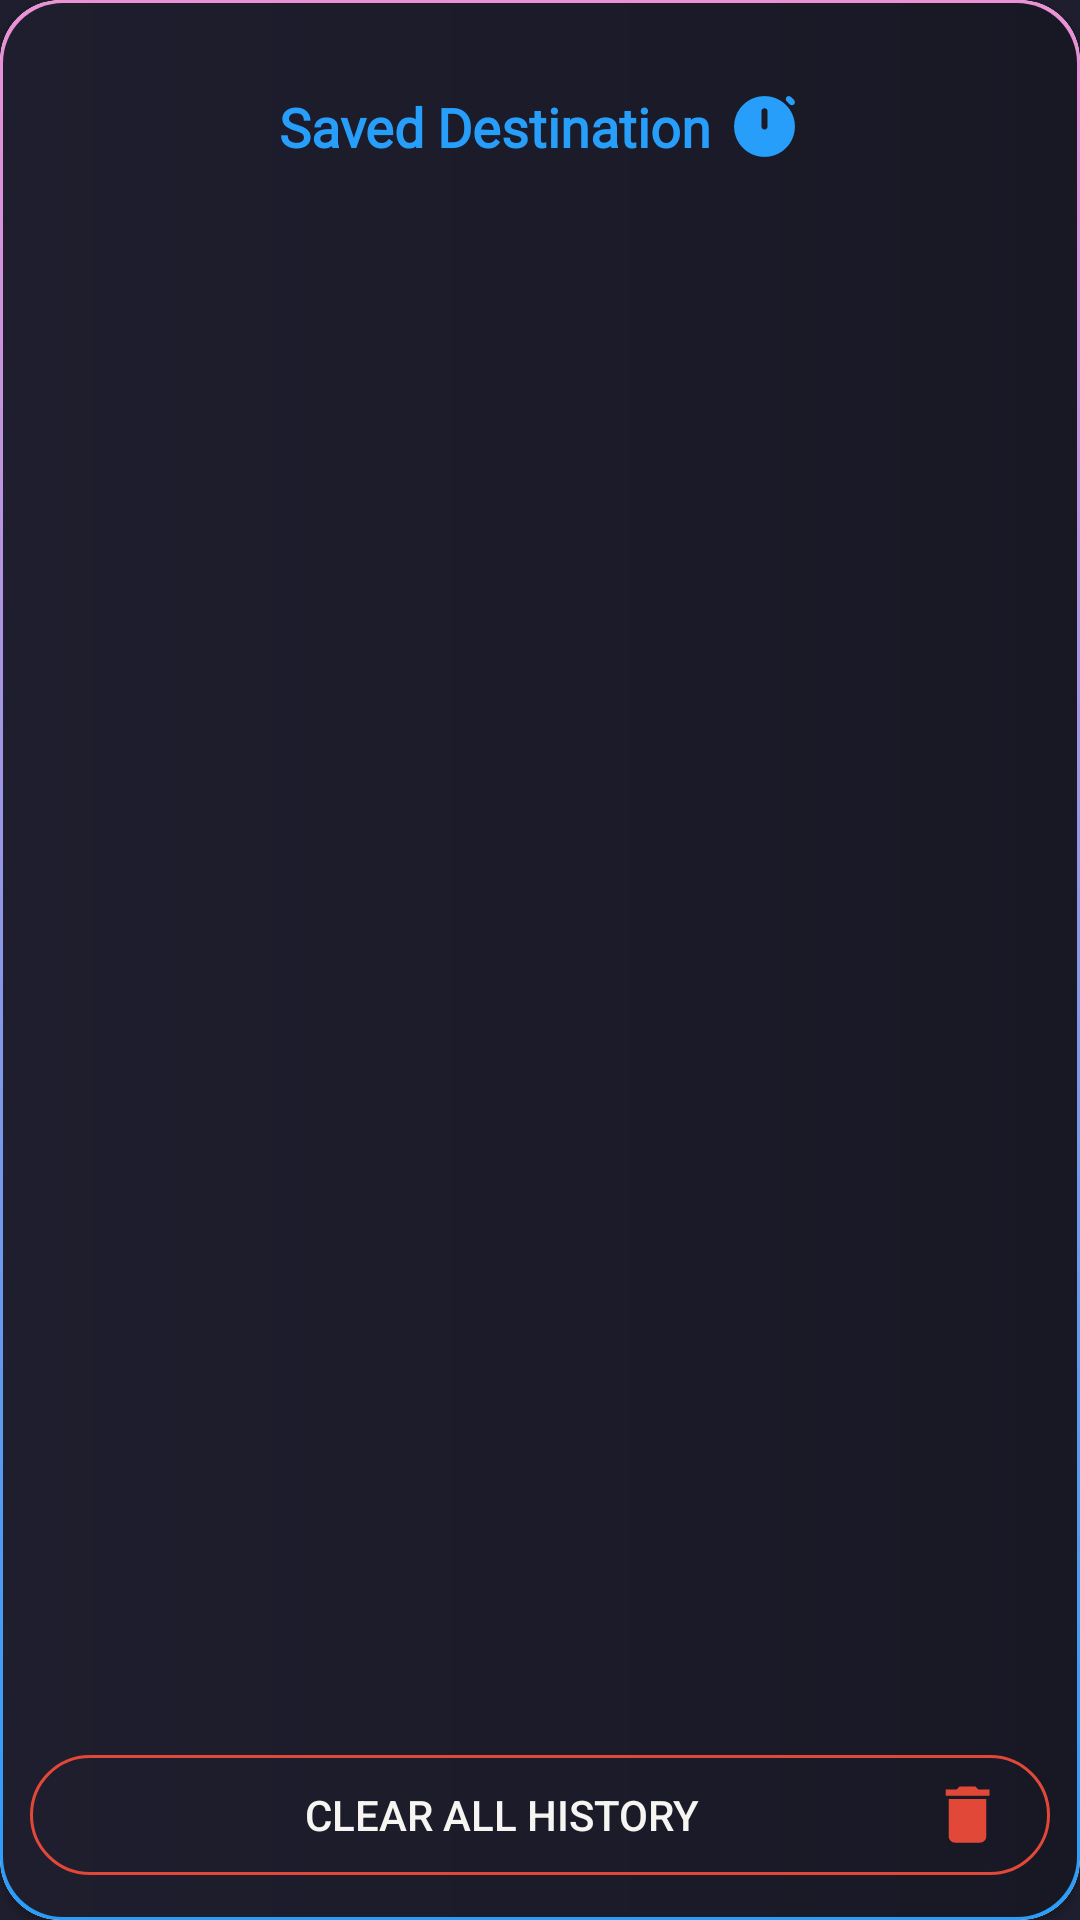

Icons on this 1080px×1920px Android screen, each with its box as (x1, y1, x2, y2):
timer: (734, 96, 795, 157)
